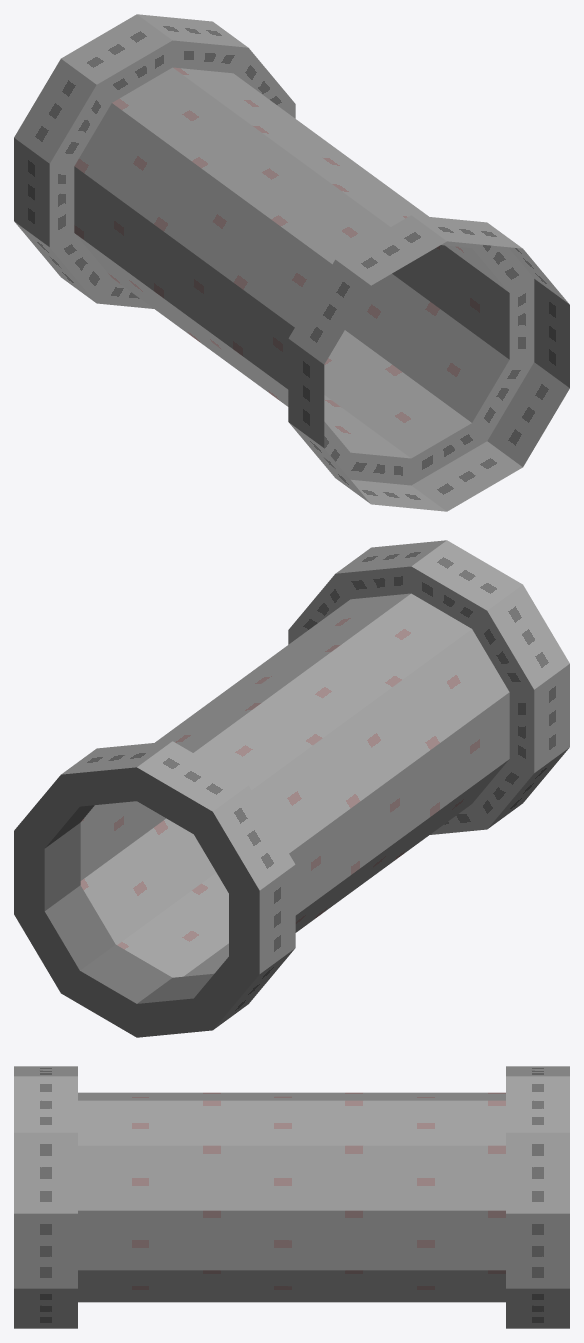
File: Pipe_2.fbx
3 renders of one model, top to bottom at view 1: azimuth 30°, elevation 25°; view 2: azimuth 150°, elevation 25°; view 3: azimuth 270°, elevation 25°, orthographic. The views are drawn at different scales.
Parts seen in each view (by area): view 1: Pipe_2; view 2: Pipe_2; view 3: Pipe_2.
Part boxes in pixels (bbox=[...]): Pipe_2: bbox=[14, 14, 569, 511]; Pipe_2: bbox=[14, 540, 569, 1037]; Pipe_2: bbox=[14, 1066, 569, 1328].
Size of the model in its own units: 59.44 by 62.5 by 130.
